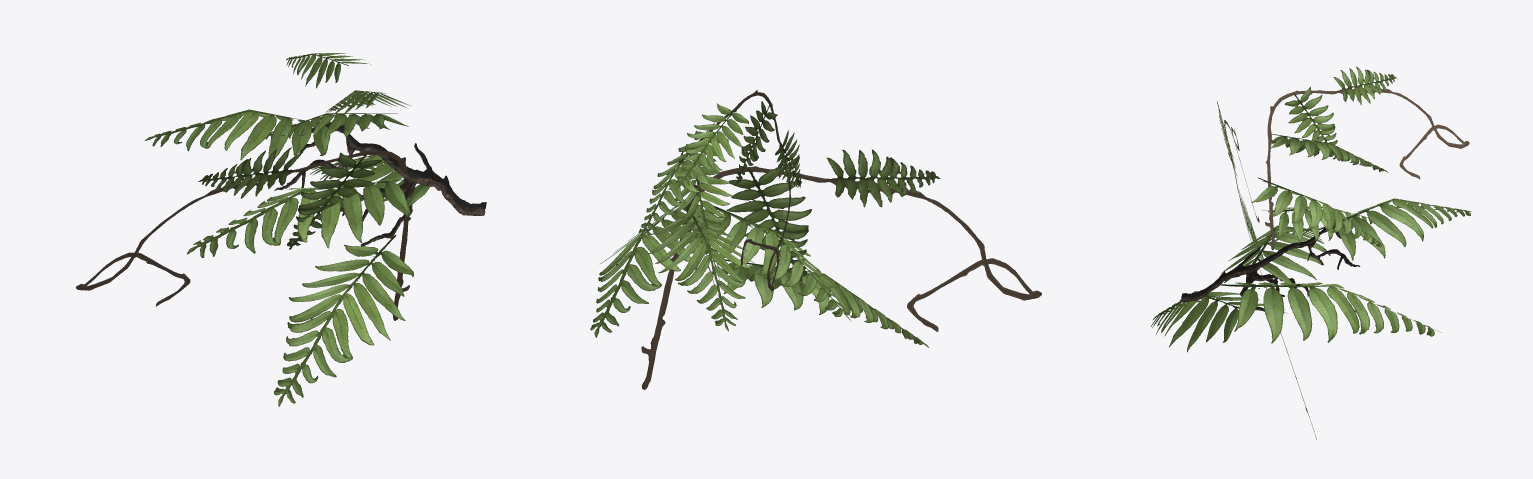
Rendered from Scene_Tree_tengluo_4.FBX.
The picture shows the model from 3 angles, left to right: view 1: azimuth 30°, elevation 25°; view 2: azimuth 150°, elevation 25°; view 3: azimuth 270°, elevation 25°; orthographic projection. The views are drawn at different scales.
Visible parts, largest first — view 1: Scene_Tree_tenglu_4; view 2: Scene_Tree_tenglu_4; view 3: Scene_Tree_tenglu_4.
Part boxes in pixels (x1,y1,x2,y2): Scene_Tree_tenglu_4: (76, 53, 486, 406); Scene_Tree_tenglu_4: (590, 90, 1041, 389); Scene_Tree_tenglu_4: (1151, 66, 1470, 439).
Bounding box in the file's own units: 382 × 305 × 307.
